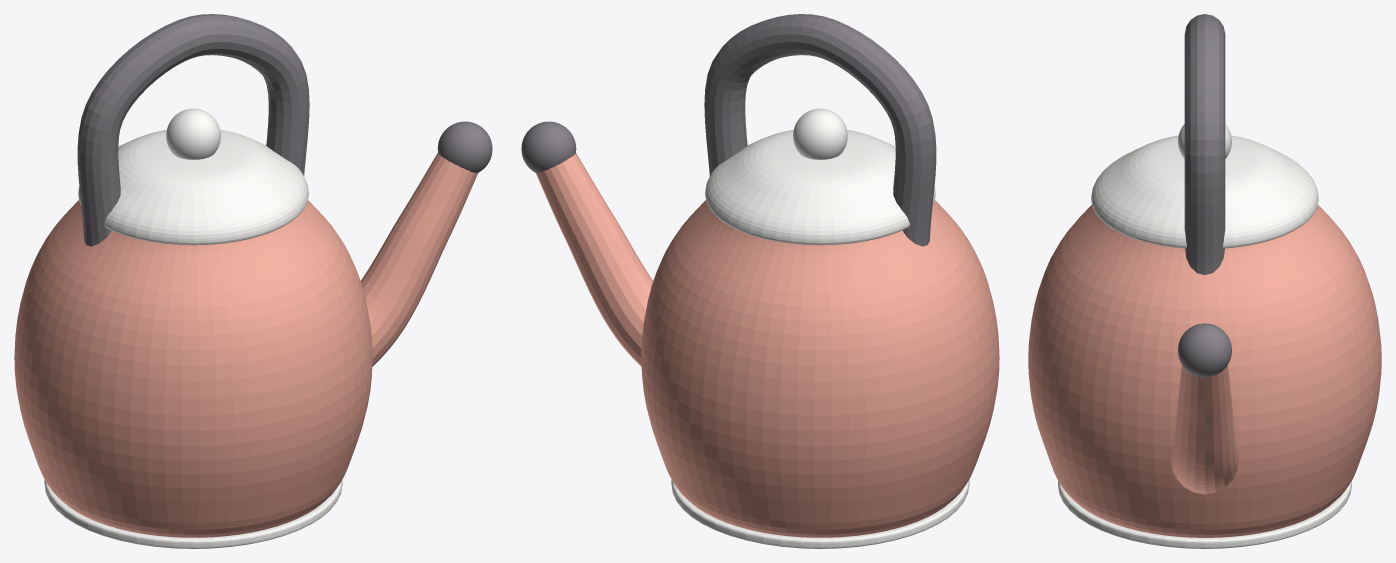
Rendered from kettle.glb.
3 views of the same model, side by side, from view 1: azimuth 30°, elevation 25°; view 2: azimuth 150°, elevation 25°; view 3: azimuth 270°, elevation 25° (orthographic).
Parts seen in each view (by area): view 1: Kettle_Body, Kettle_Lid, Kettle_Handle, Kettle_Spout, Kettle_Base, Kettle_Whistle; view 2: Kettle_Body, Kettle_Lid, Kettle_Handle, Kettle_Spout, Kettle_Base, Kettle_Whistle; view 3: Kettle_Body, Kettle_Lid, Kettle_Handle, Kettle_Spout, Kettle_Base, Kettle_Whistle.
Part boxes in pixels (bbox=[...]): Kettle_Body: bbox=[14, 200, 372, 537]; Kettle_Lid: bbox=[78, 108, 308, 245]; Kettle_Handle: bbox=[77, 14, 309, 246]; Kettle_Spout: bbox=[360, 153, 477, 366]; Kettle_Base: bbox=[44, 480, 342, 548]; Kettle_Whistle: bbox=[437, 121, 492, 172]; Kettle_Body: bbox=[641, 200, 999, 537]; Kettle_Lid: bbox=[705, 108, 935, 245]; Kettle_Handle: bbox=[704, 14, 936, 246]; Kettle_Spout: bbox=[536, 153, 653, 366]; Kettle_Base: bbox=[671, 480, 969, 548]; Kettle_Whistle: bbox=[521, 121, 576, 172]; Kettle_Body: bbox=[1028, 205, 1381, 537]; Kettle_Lid: bbox=[1091, 124, 1318, 248]; Kettle_Handle: bbox=[1184, 14, 1225, 274]; Kettle_Spout: bbox=[1171, 365, 1238, 494]; Kettle_Base: bbox=[1058, 481, 1351, 548]; Kettle_Whistle: bbox=[1178, 323, 1231, 377].
Size of the model in its own units: 0.3036 by 0.302 by 0.2092.
